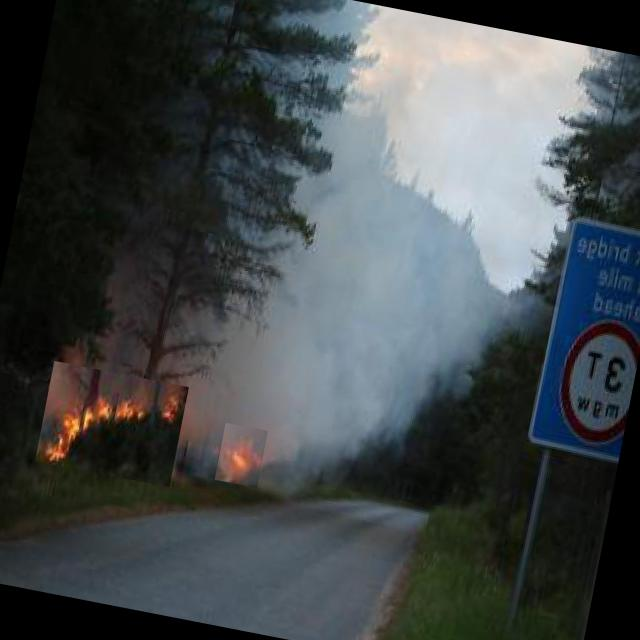fire: (35, 361, 189, 487), (215, 423, 268, 488)
